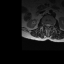CCS_normal: (47, 22, 49, 30)
LFS_stenosis: (50, 22, 52, 27)
LLS_normal: (49, 22, 50, 28)
RFS_normal: (44, 21, 45, 27)
RLS_normal: (45, 22, 47, 28)
